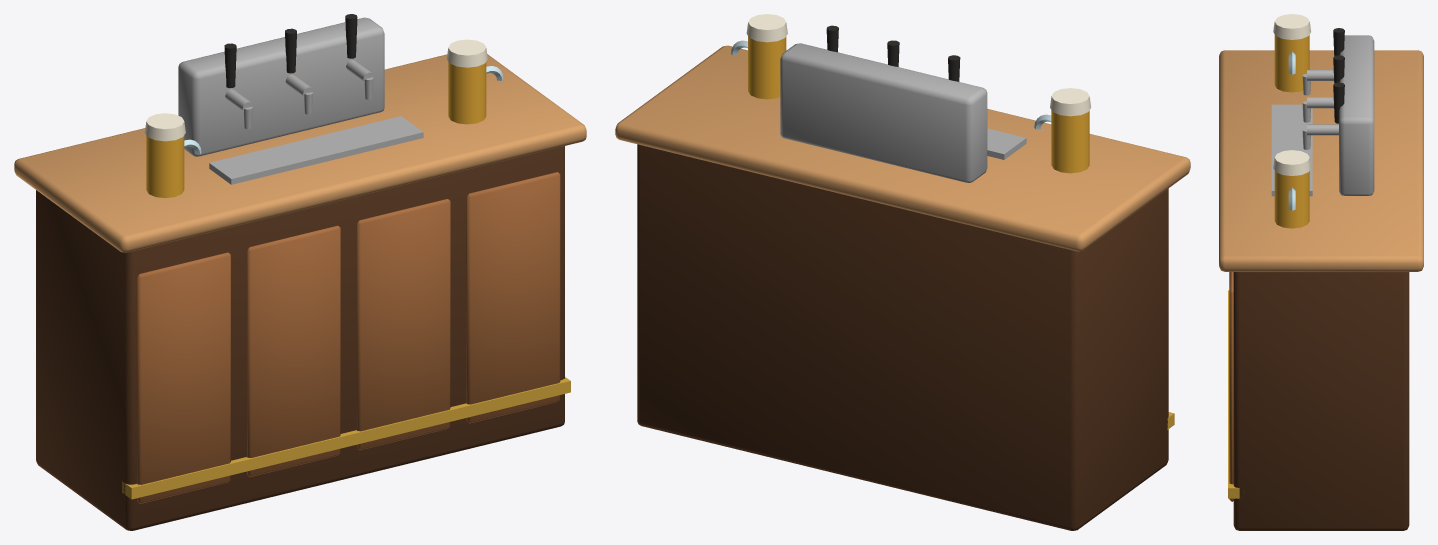
File: balcao_chope.glb
The picture shows the model from 3 angles, left to right: view 1: azimuth 30°, elevation 25°; view 2: azimuth 150°, elevation 25°; view 3: azimuth 270°, elevation 25°; orthographic projection. The views are drawn at different scales.
Visible parts, largest first — view 1: Balcao_Chope; view 2: Balcao_Chope; view 3: Balcao_Chope.
Boxes of the visible parts, bbox=[...] form: Balcao_Chope: bbox=[14, 14, 586, 530]; Balcao_Chope: bbox=[615, 14, 1190, 530]; Balcao_Chope: bbox=[1219, 14, 1423, 530].
Bounding box in the file's own units: 1.7 × 1.42 × 0.7.
